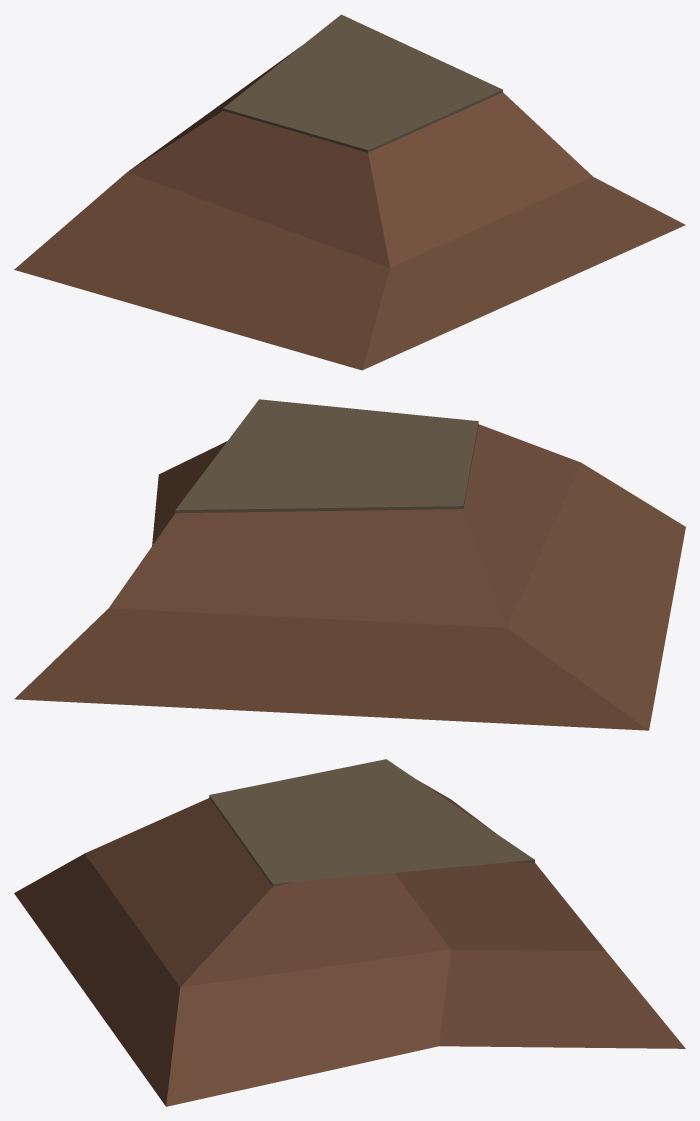
The model's file is Hill.fbx.
3 renders of one model, top to bottom at view 1: azimuth 30°, elevation 25°; view 2: azimuth 150°, elevation 25°; view 3: azimuth 270°, elevation 25°, orthographic. The views are drawn at different scales.
Parts seen in each view (by area): view 1: Hill, node_id47.002; view 2: Hill, node_id47.002; view 3: Hill, node_id47.002.
Part boxes in pixels (x1,y1,x2,y2): Hill: [14, 46, 685, 370]; node_id47.002: [223, 14, 502, 152]; Hill: [14, 424, 685, 730]; node_id47.002: [175, 399, 478, 513]; Hill: [14, 780, 685, 1106]; node_id47.002: [209, 759, 534, 886].
Size of the model in its own units: 152 by 35.34 by 144.
